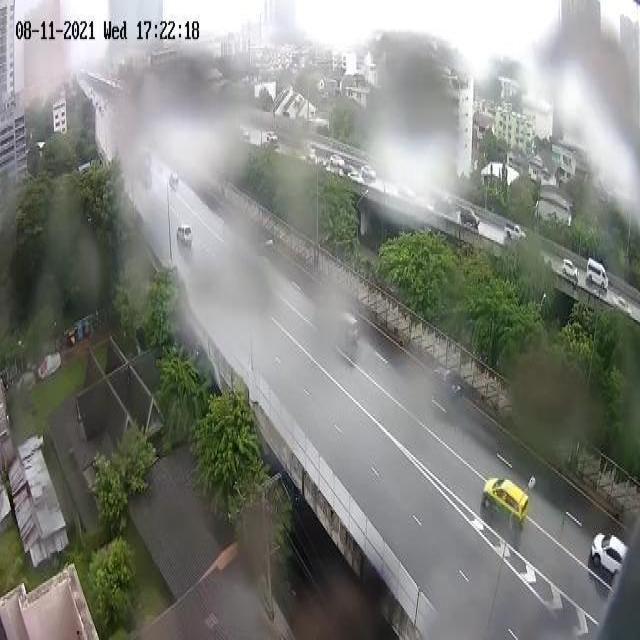Car: (480, 472, 530, 536), (589, 521, 627, 580), (431, 365, 462, 402), (332, 310, 358, 345), (560, 254, 580, 284), (504, 220, 528, 243), (458, 208, 481, 228), (176, 225, 193, 248), (361, 162, 377, 184), (328, 152, 346, 168), (266, 130, 278, 144), (252, 230, 253, 235)
Van: (586, 257, 610, 292), (271, 222, 287, 229)
